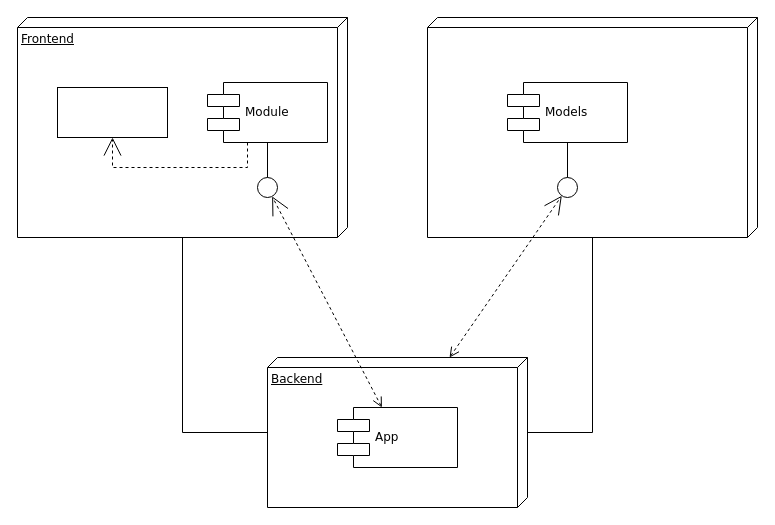
This 775x525 diagram has some shape labels left out. Here are the shapes that lost their labels. From the top down, the box of each, then its label:
(56, 86, 168, 138): «interface» Name
(426, 16, 758, 238): Bd
